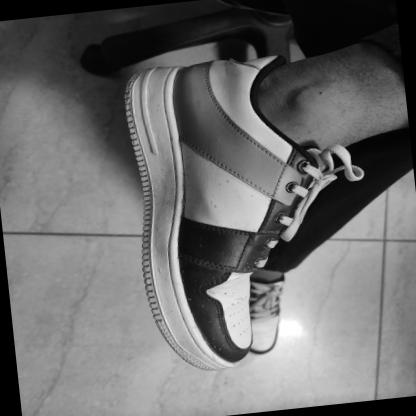ankle: (263, 122, 273, 128)
heel: (182, 69, 191, 76)
pinky: (246, 317, 250, 320)
right_foot: (120, 44, 336, 379)
toe: (221, 353, 225, 355)
